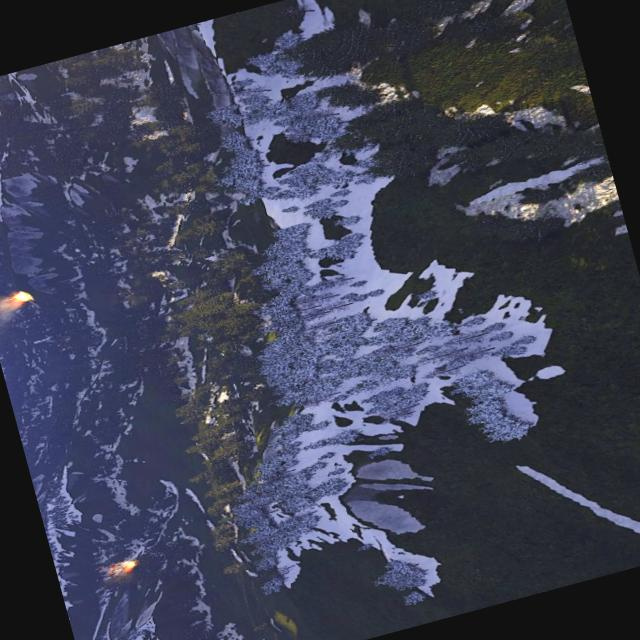fire: (111, 556, 139, 574), (10, 286, 32, 304)
smoke: (0, 291, 23, 347), (96, 560, 136, 586)
